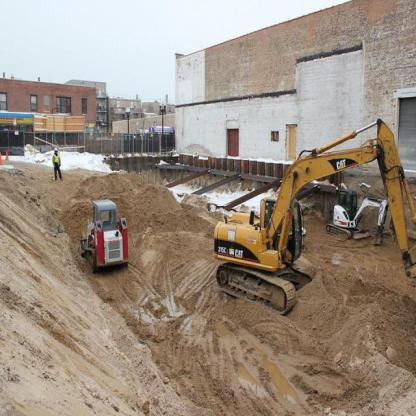excavator: (207, 111, 414, 311)
